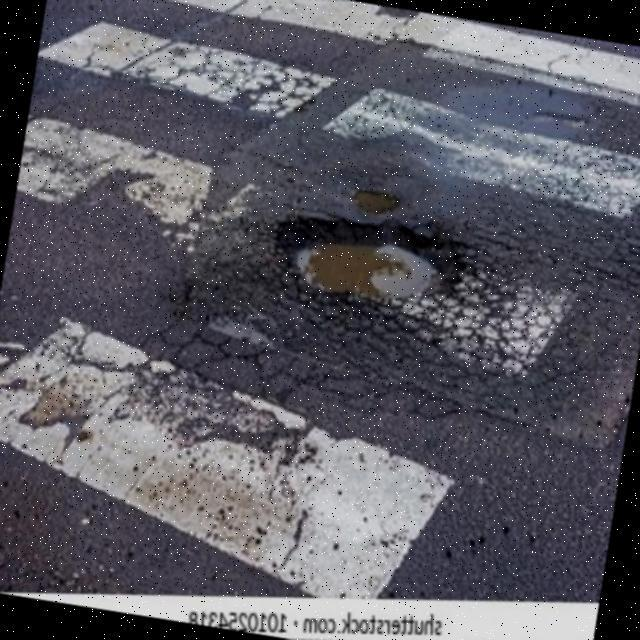Pothole: (278, 212, 464, 304), (352, 188, 397, 215)
